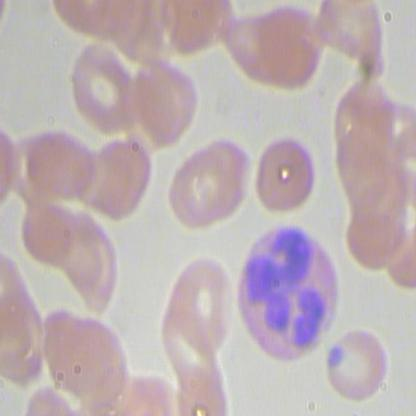RBC: (66, 42, 140, 138), (170, 248, 235, 356), (255, 3, 325, 90), (39, 308, 107, 397), (24, 128, 98, 206), (139, 54, 201, 147), (168, 144, 230, 232), (193, 134, 255, 221), (325, 323, 389, 403), (253, 137, 316, 215), (22, 199, 81, 266)
WBC: (236, 217, 337, 365)
